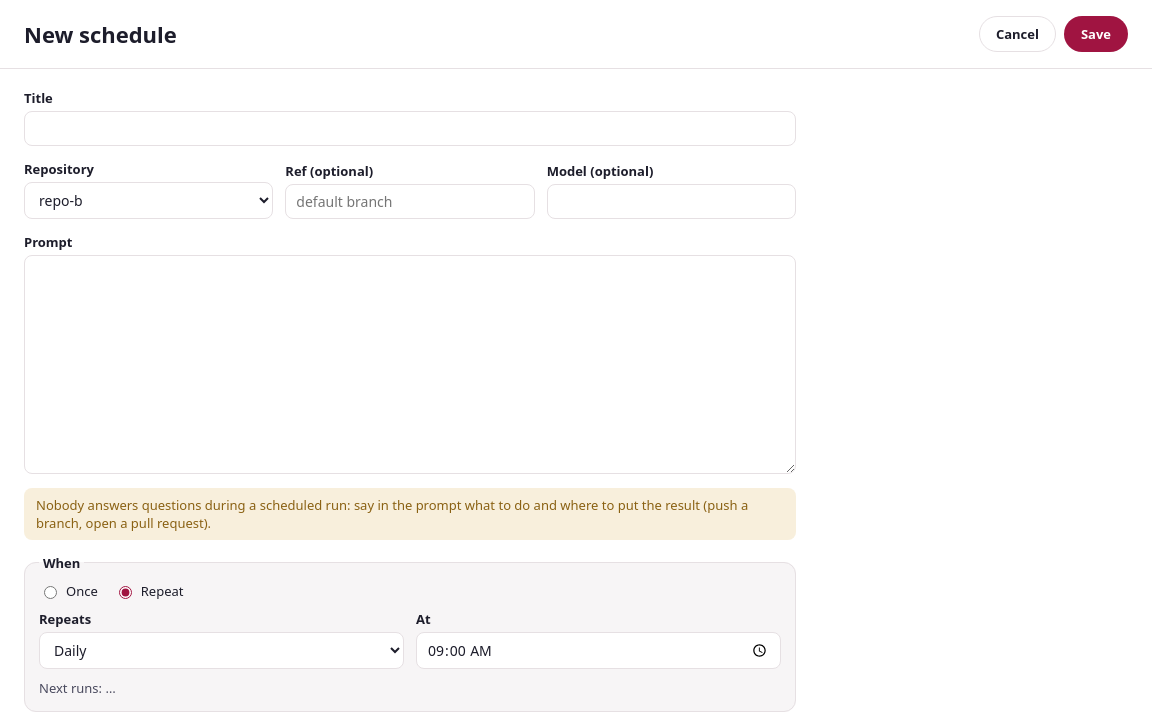
ScheduleForm › shows a save error at its field
Type "x" into the text box labelled "Prompt" at (410, 364), box x1=24 y1=255 x2=796 y2=474
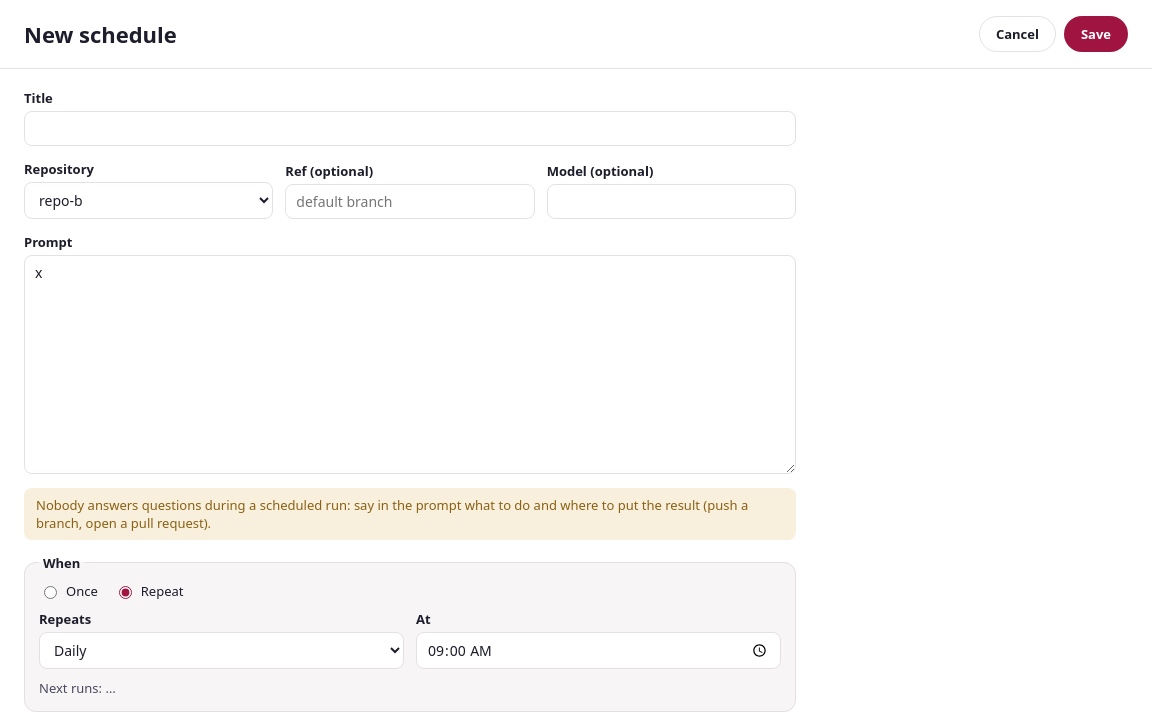
Click the button "Save" at (1096, 34), box x1=1064 y1=16 x2=1128 y2=52
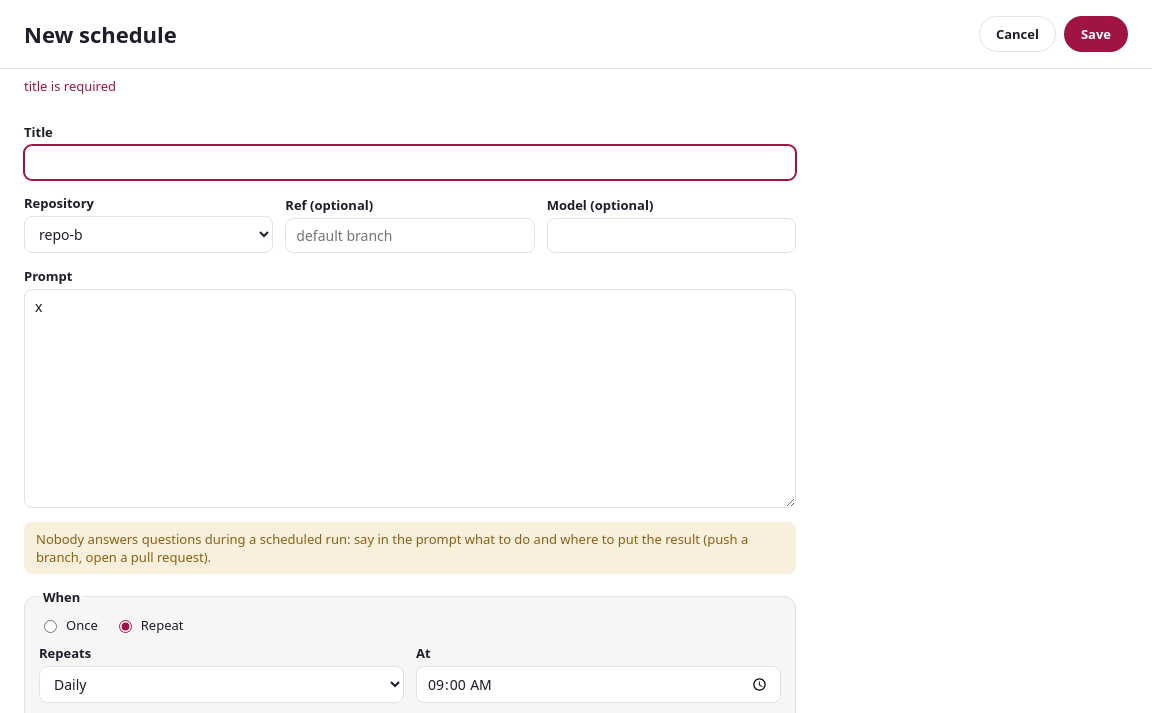
Now the message reads "title is required", box x1=24 y1=77 x2=116 y2=95
